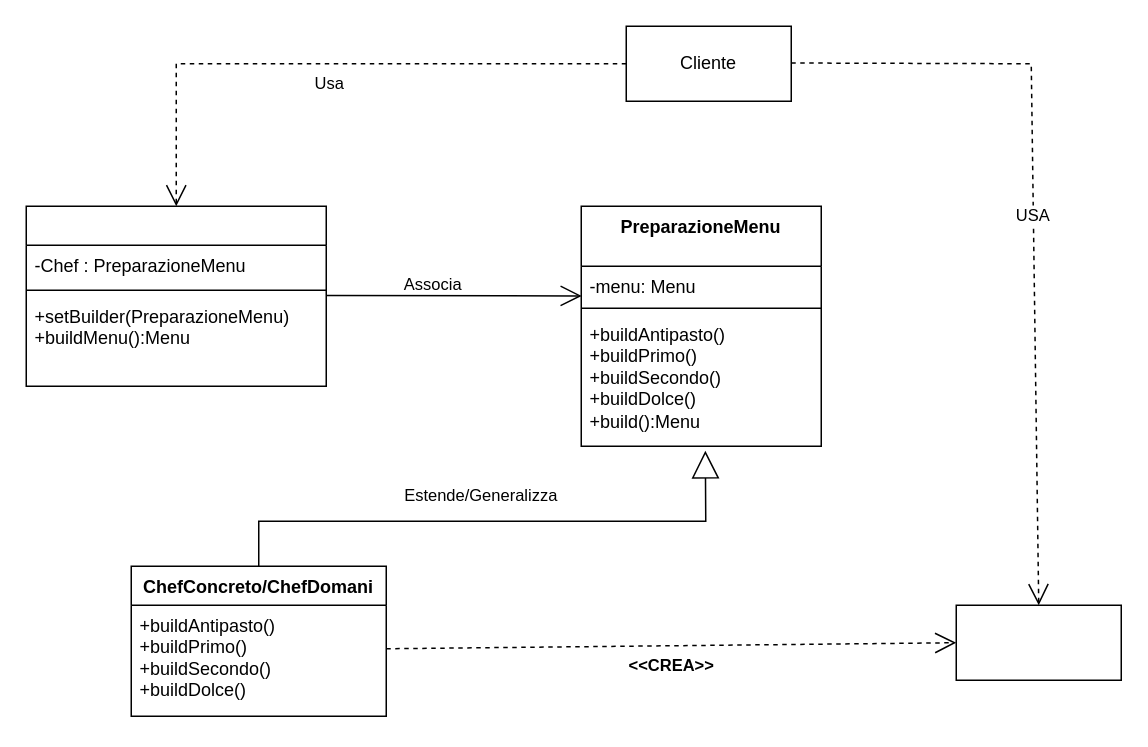
Some shapes in this 1148 by 747 pixel diagram are drawn without their labels. The shapes that lost their labels are listed below. From the top down, each one's box as (x1, y1, x2, y2) in pixels, then its label:
(25, 205, 326, 386): Cucina
(955, 604, 1121, 680): Menù
